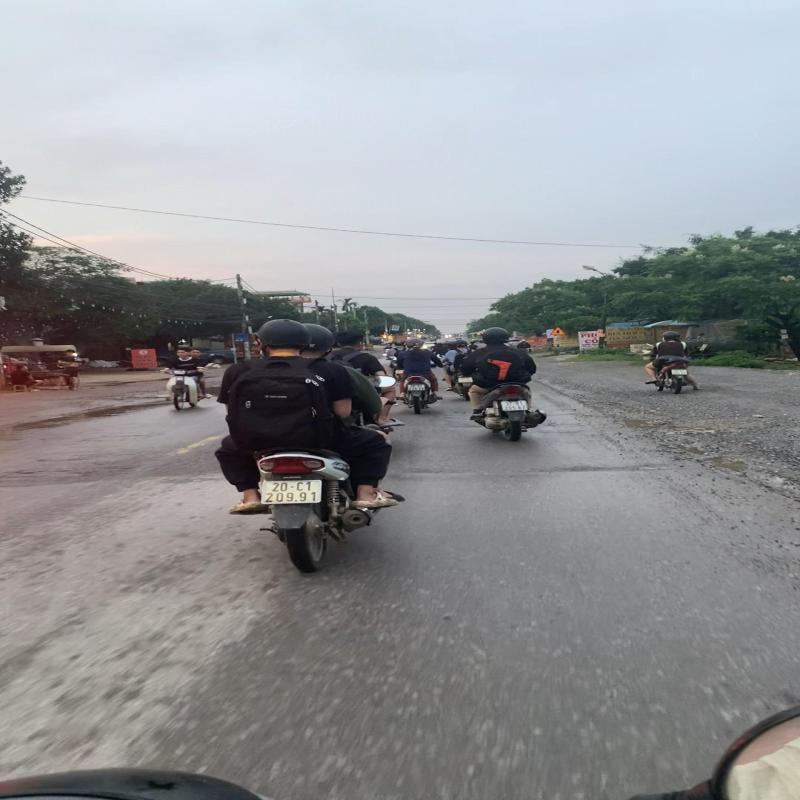helmet: (257, 318, 308, 357), (301, 324, 335, 356)
licenseplate: (256, 477, 328, 506)
motorcyclist: (214, 312, 411, 572)
